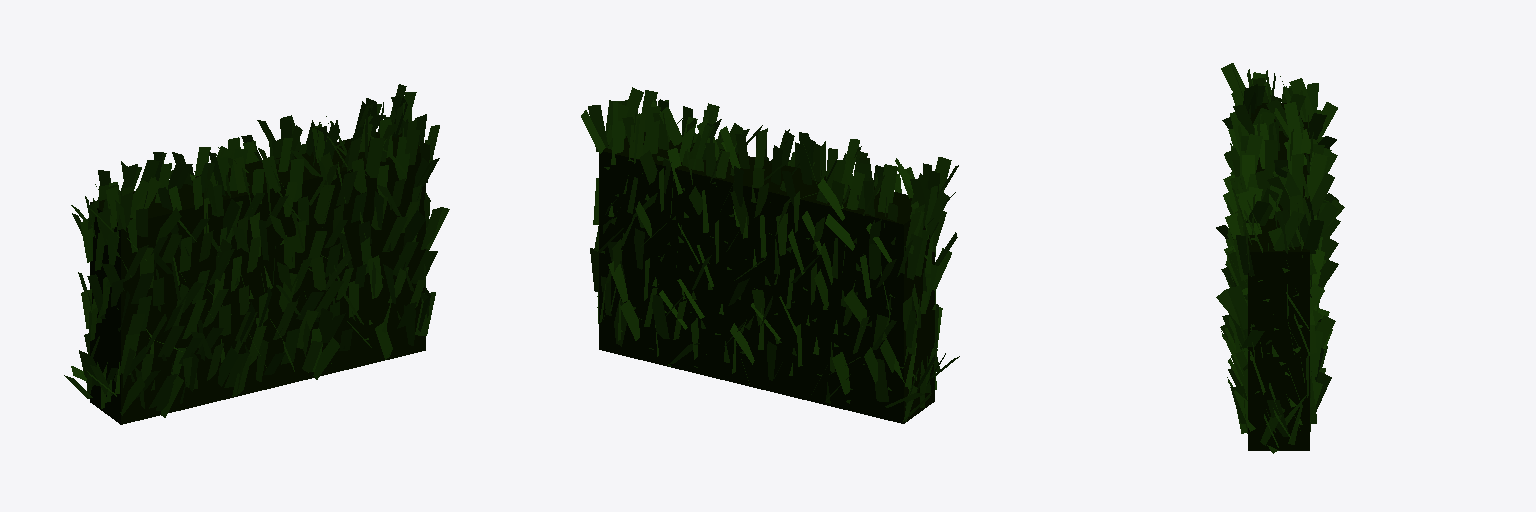
File: WallHedge1.obj
3 renders of one model, left to right at view 1: azimuth 30°, elevation 25°; view 2: azimuth 150°, elevation 25°; view 3: azimuth 270°, elevation 25°, orthographic.
Visible parts, largest first — view 1: WallHedge1_Cube.028; view 2: WallHedge1_Cube.028; view 3: WallHedge1_Cube.028.
Part boxes in pixels (x1,y1,x2,y2): WallHedge1_Cube.028: (64,84,449,424); WallHedge1_Cube.028: (581,87,959,423); WallHedge1_Cube.028: (1216,63,1344,453).
Bounding box in the file's own units: 5.28 × 3.43 × 1.65.